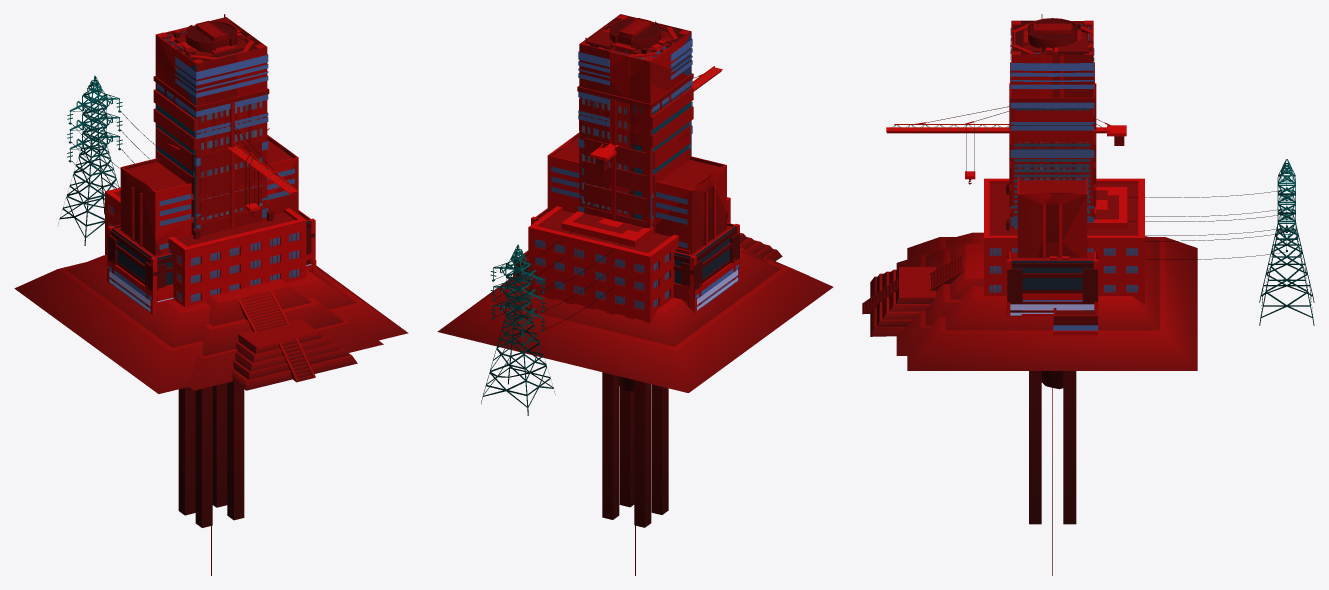
File: EverythingLibrary_Buildings_001.fbx
The picture shows the model from 3 angles, left to right: view 1: azimuth 30°, elevation 25°; view 2: azimuth 150°, elevation 25°; view 3: azimuth 270°, elevation 25°; orthographic projection.
Visible parts, largest first — view 1: base (×16), windowRefl (×6), link; view 2: base (×15), windowRefl (×6), link; view 3: base (×15), windowRefl (×5), link.
Part boxes in pixels (x1,y1,x2,y2): base (×16): [14, 14, 408, 575]; windowRefl (×6): [110, 54, 310, 302]; link: [58, 75, 155, 245]; base (×15): [437, 14, 833, 575]; windowRefl (×6): [535, 39, 735, 309]; link: [481, 230, 622, 415]; base (×15): [862, 18, 1197, 575]; windowRefl (×5): [989, 28, 1137, 315]; link: [1127, 159, 1314, 325].
Size of the model in its own units: 7435 by 15674 by 11577.
